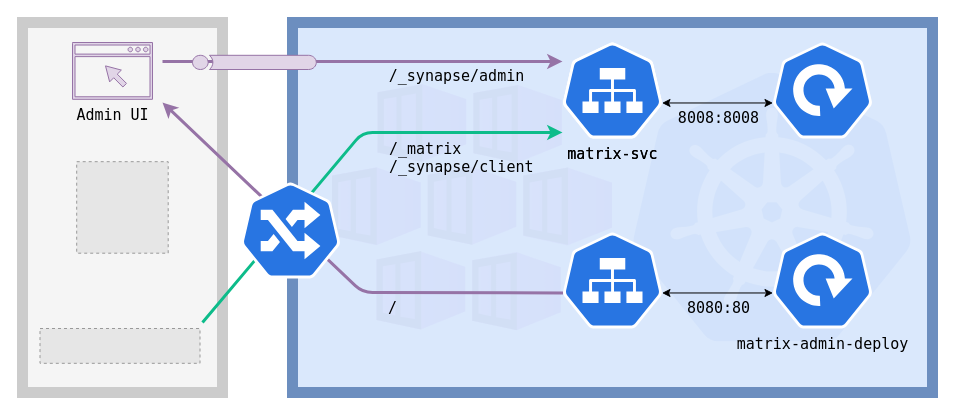
This 955x415 diagram has some shape labels left out. Grey dashed boxes stand in for pictures. Here are the shapes that lost their labels. From the top down, the centre of each, then its label:
At pixel 254 62: "kubectl port-forward".
At pixel 822 90: "matrix-deploy".
At pixel 612 280: "matrix-admin-svc".
